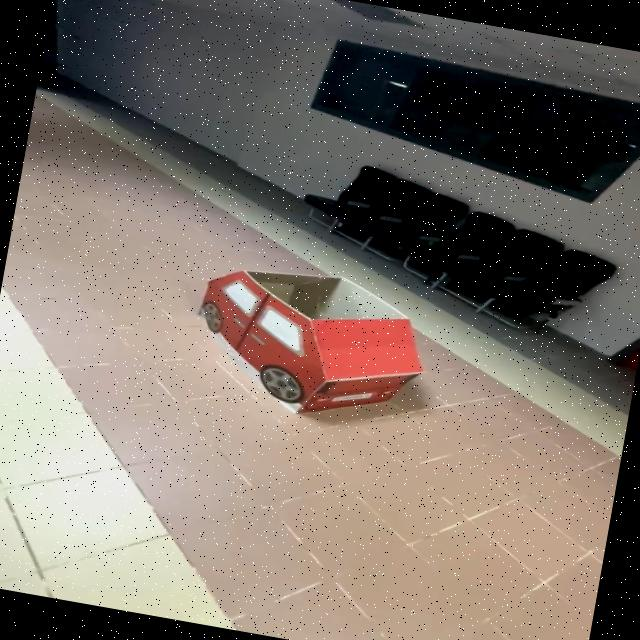red_car: (169, 243, 451, 449)
